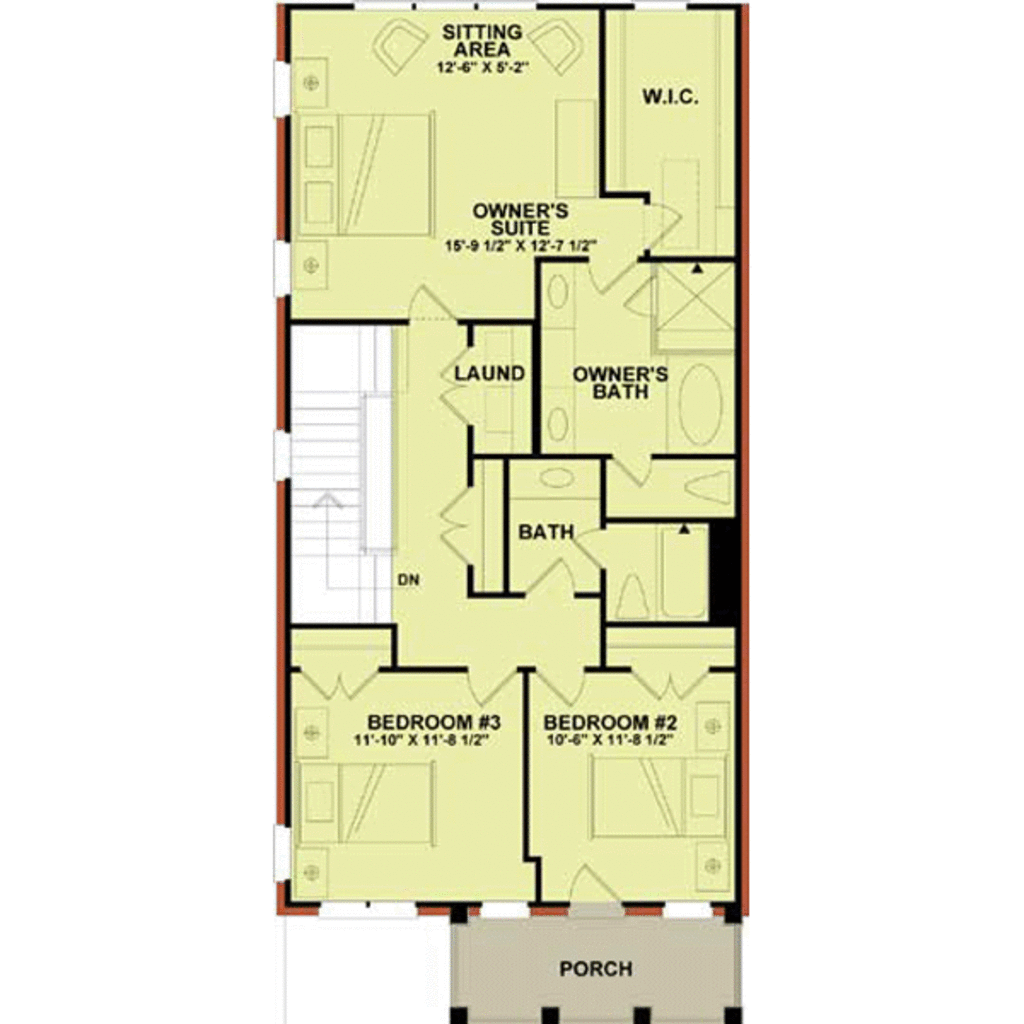bed: (292, 109, 439, 241), (585, 747, 730, 844), (296, 762, 440, 846)
door: (439, 337, 481, 433), (629, 661, 712, 703), (436, 483, 476, 563), (302, 668, 378, 705), (458, 662, 518, 708), (529, 667, 593, 709), (524, 560, 584, 601), (399, 282, 461, 321), (588, 255, 635, 294), (606, 449, 651, 485)
large_sink: (670, 466, 739, 518), (612, 566, 656, 619)
small_sink: (509, 457, 605, 506), (537, 263, 576, 336), (535, 386, 576, 453)
stairs: (290, 319, 397, 632)
tub: (660, 528, 705, 622)
